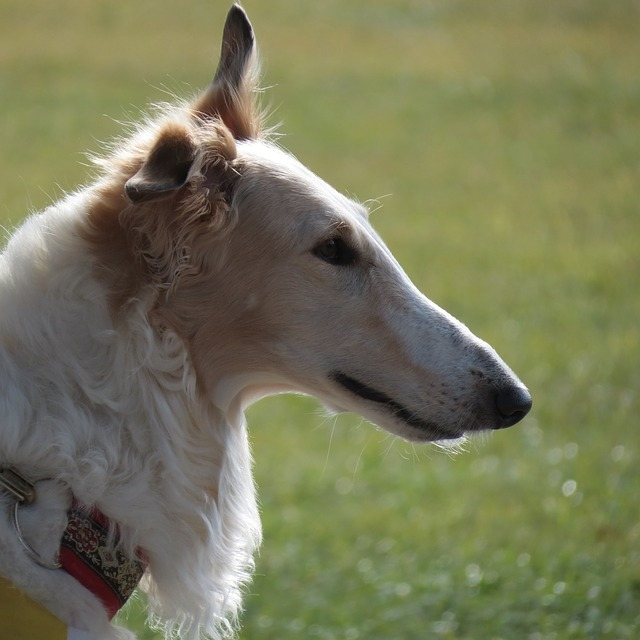borzoi: (0, 4, 558, 635)
